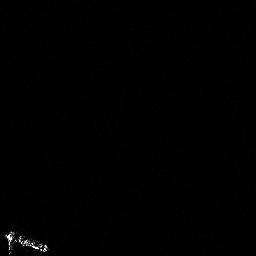ship: (2, 228, 49, 255)
